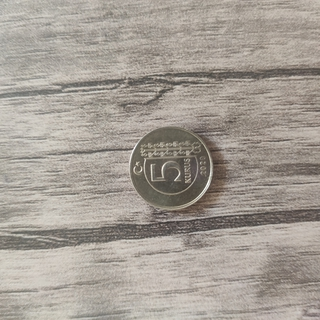5KURUS: (128, 124, 215, 212)
